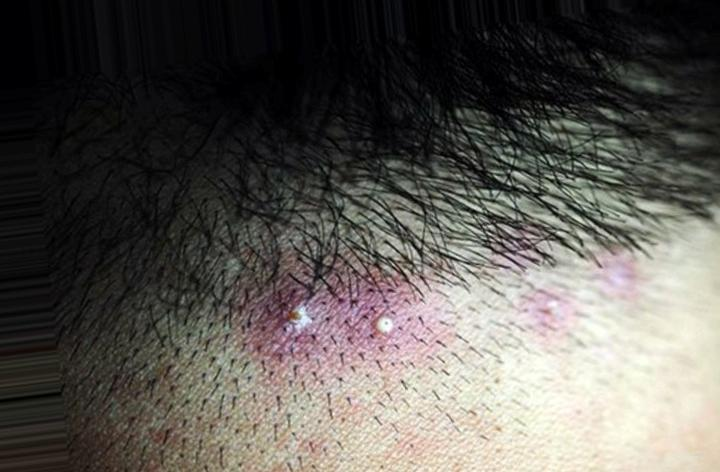Folliculitis: (258, 271, 424, 366)
